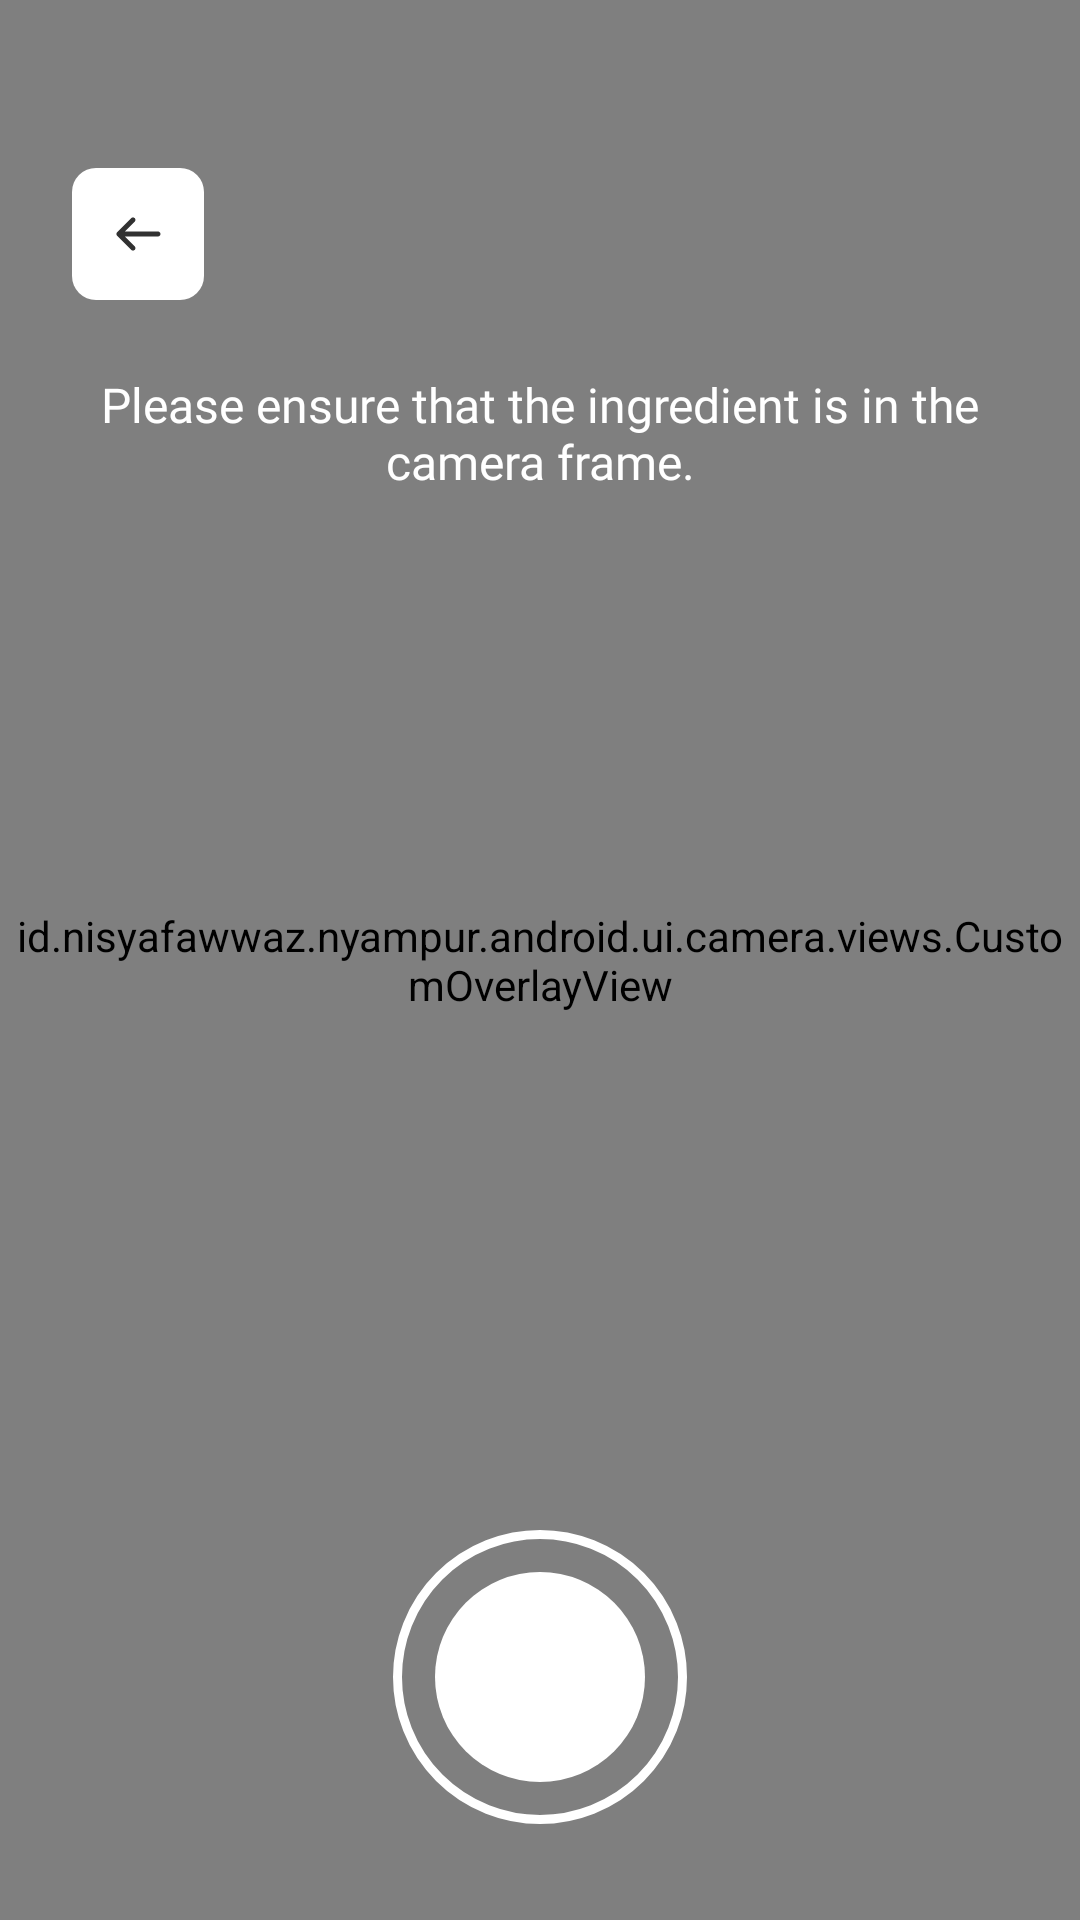

Where to tap for icons on this 1080×1920 app screen, as point (x, y):
back: point (138, 234)
